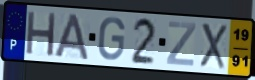2: (130, 16, 158, 68)
A: (53, 12, 91, 62)
G: (97, 16, 127, 62)
H: (24, 9, 58, 58)
X: (198, 21, 228, 71)
Z: (165, 20, 198, 68)
